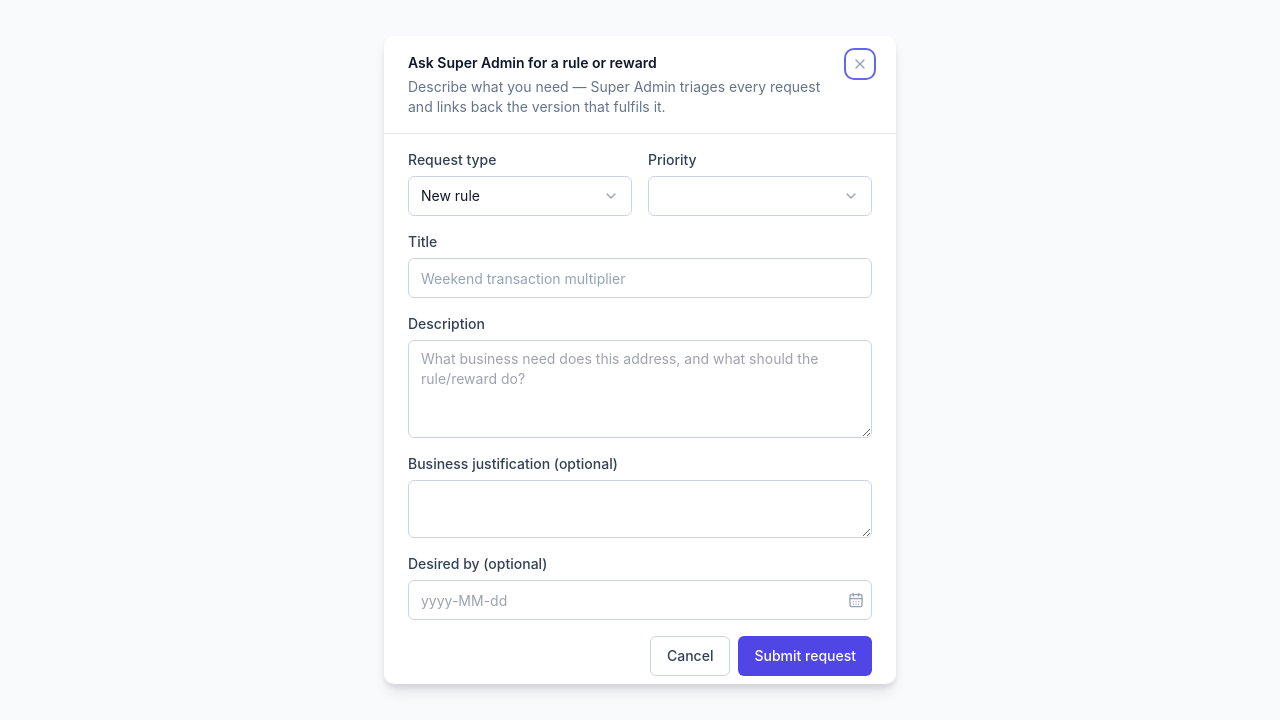
Test: SubmitDefinitionRequestModal › shows the entityId field only for update_rule/update_reward
Expected: the field labelled "existing rule/reward id" is not shown
Click the dropdown named "request type".
click(520, 196)  # box x1=408 y1=176 x2=632 y2=216
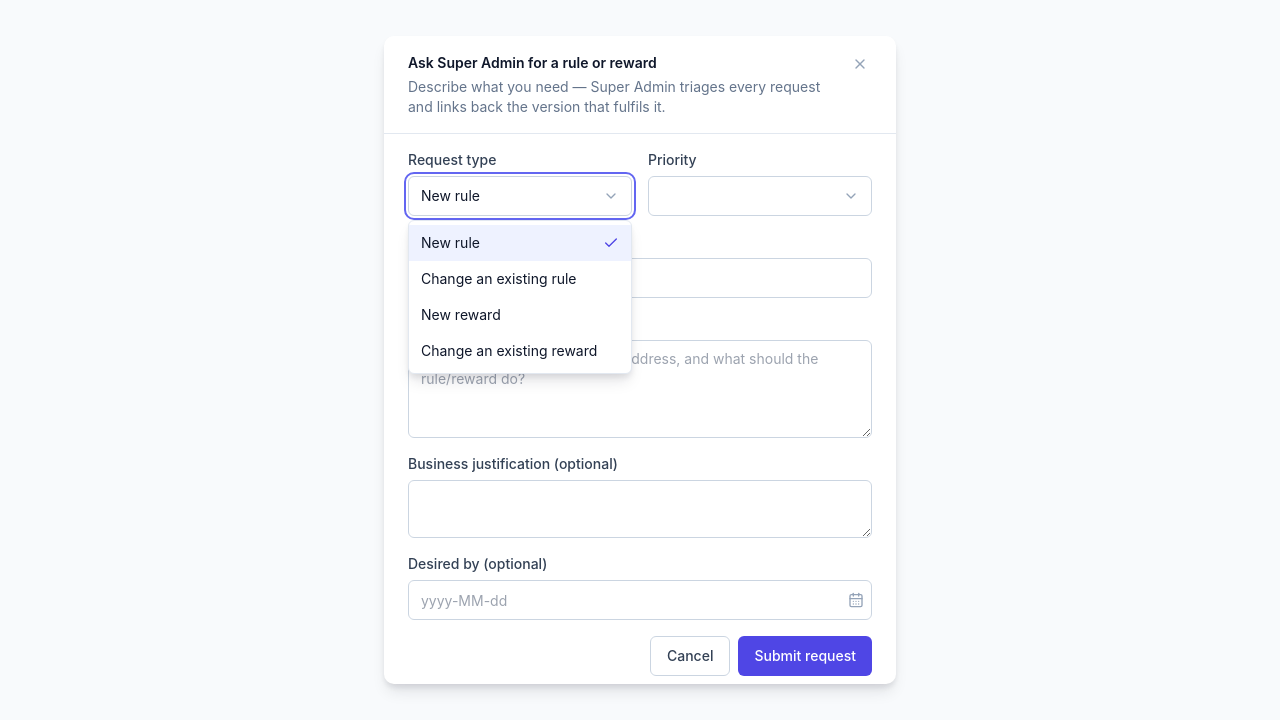
Click the option "Change an existing rule".
click(499, 278)  # box x1=421 y1=270 x2=576 y2=287
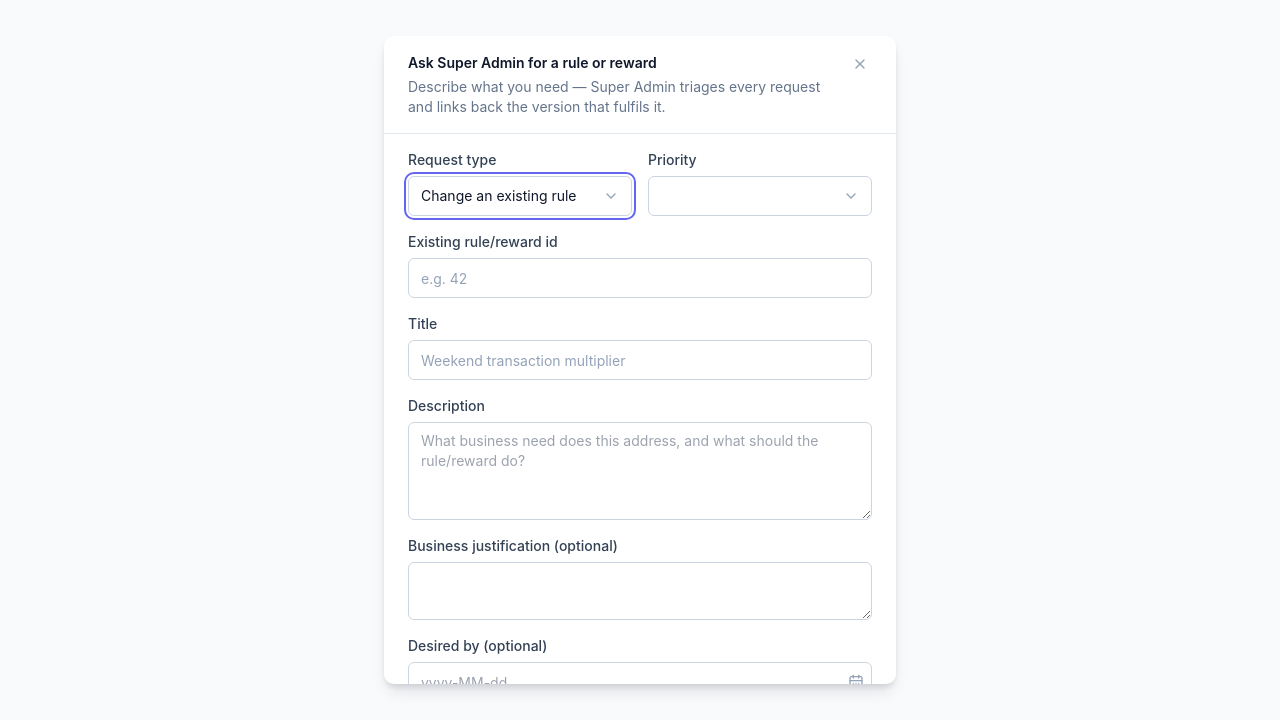
Now the field labelled "Existing rule/reward id" is shown, box x1=408 y1=258 x2=872 y2=298
